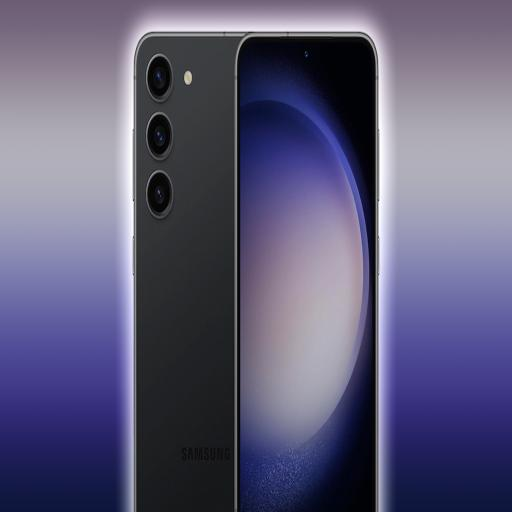phone: (236, 32, 380, 512)
